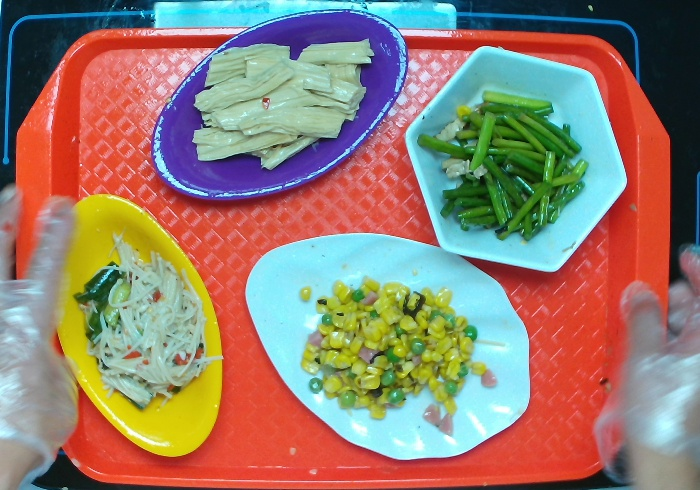RJxy-Bai_Ye_Pan: (243, 228, 535, 464)
RJxy-Fen_Hong_Tuo_Yuan: (146, 1, 409, 206)
RJxy-Huang_Se_Tuo_Yuan: (44, 188, 228, 458)
RJxy-Liu_Jiao_Wan: (402, 38, 632, 275)
